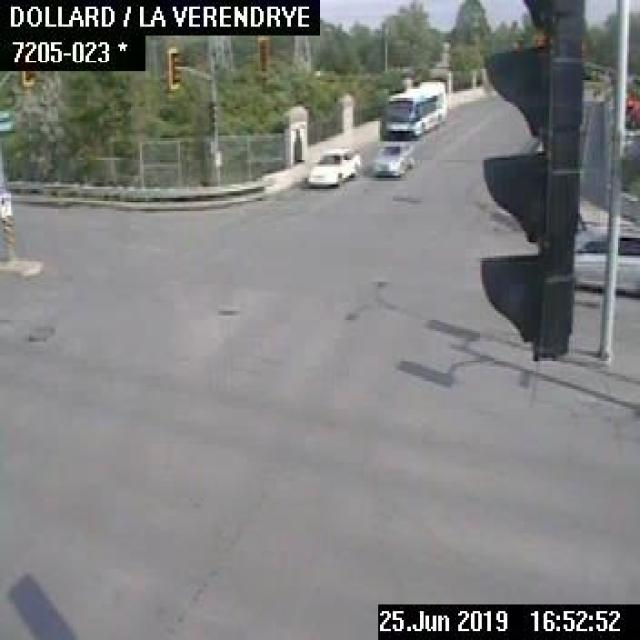bus: (380, 77, 450, 138)
vehicle: (566, 222, 638, 300), (304, 143, 359, 189), (369, 142, 412, 178)
